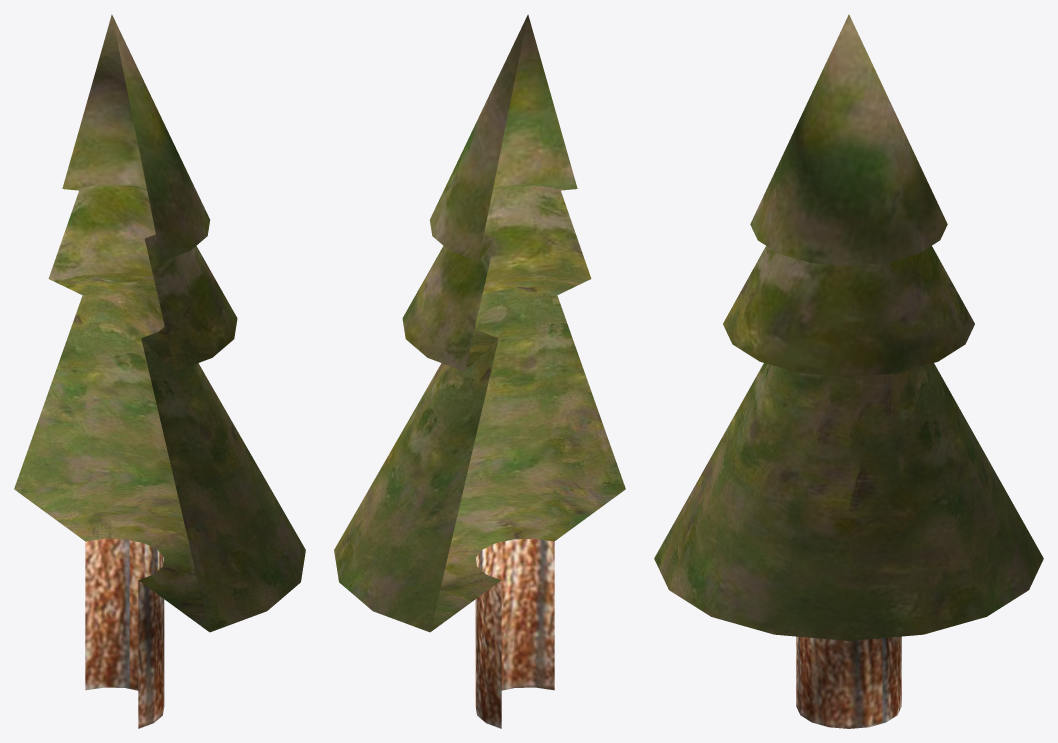
File: Albero 2.fbx
3 views of the same model, side by side, from view 1: azimuth 30°, elevation 25°; view 2: azimuth 150°, elevation 25°; view 3: azimuth 270°, elevation 25° (orthographic).
Parts seen in each view (by area): view 1: Cone; view 2: Cone; view 3: Cone.
Part boxes in pixels (x1,y1,x2,y2): Cone: [14, 14, 305, 728]; Cone: [334, 14, 625, 728]; Cone: [654, 14, 1043, 728].
Bounding box in the file's own units: 59.82 × 235 × 120.
